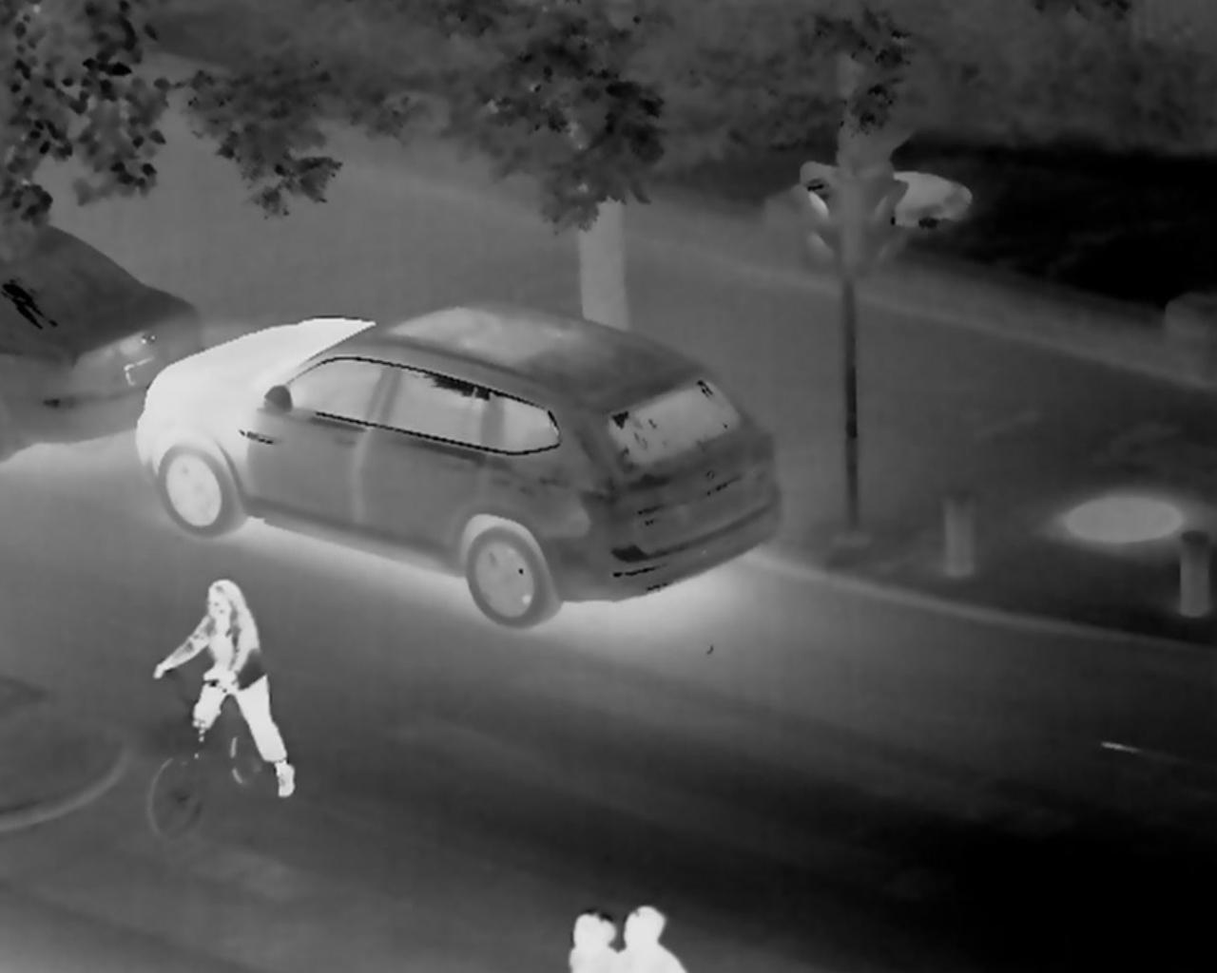person: (150, 567, 297, 801), (612, 888, 683, 973), (560, 903, 617, 973)
